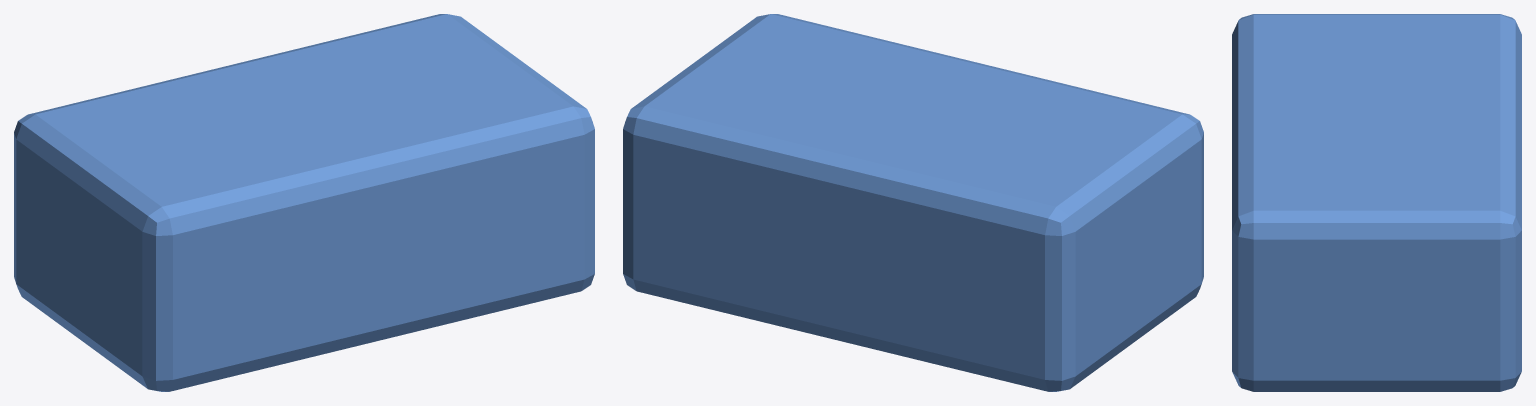
The model's file is pbr_normal_asset.glb.
3 views of the same model, side by side, from view 1: azimuth 30°, elevation 25°; view 2: azimuth 150°, elevation 25°; view 3: azimuth 270°, elevation 25° (orthographic). The views are drawn at different scales.
Visible parts, largest first — view 1: PBR_Normal_Source; view 2: PBR_Normal_Source; view 3: PBR_Normal_Source.
Part boxes in pixels (<box>): PBR_Normal_Source: <box>14,14,594,391</box>; PBR_Normal_Source: <box>623,14,1203,391</box>; PBR_Normal_Source: <box>1232,14,1521,391</box>.
Size of the model in its own units: 2.8 by 1.1 by 1.6.
